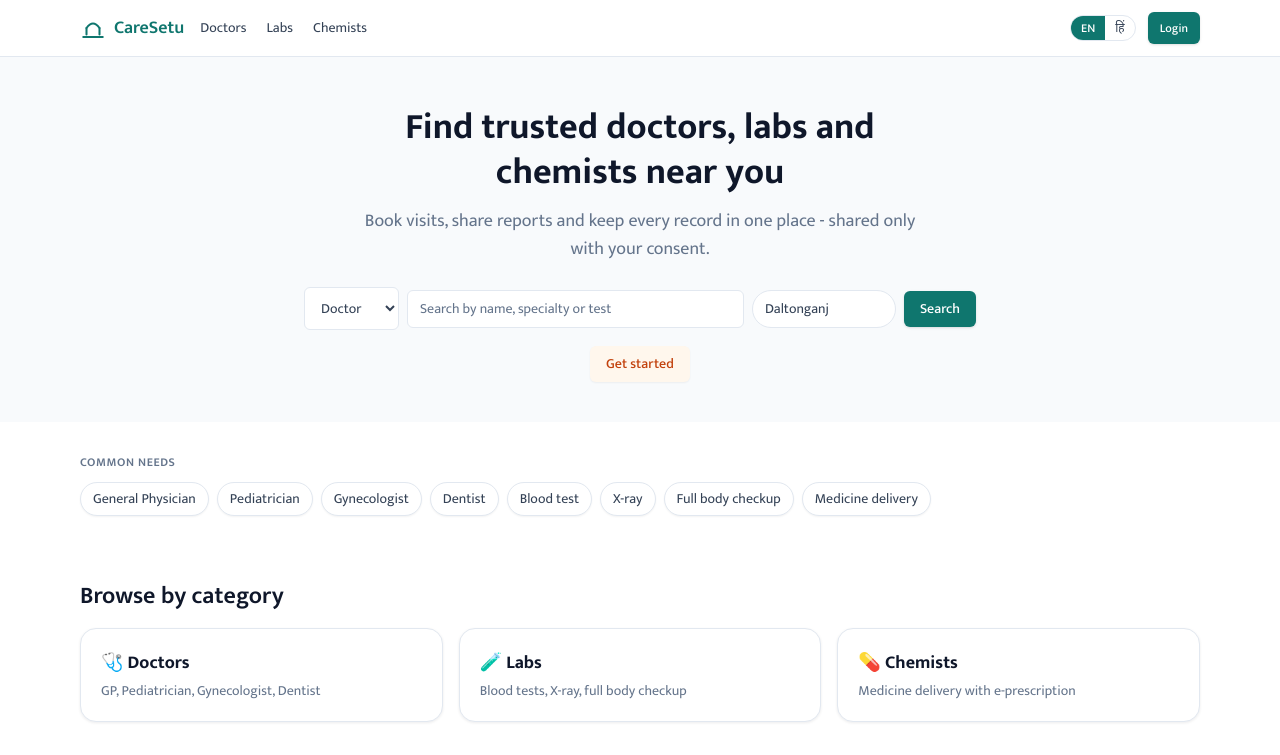
Scenario: EN/Hindi toggle parity across sections (REQ-006) › re-renders public copy in every section and tracks html lang
Click the button "हिं" at (1120, 28), box 1105,16 -> 1135,40
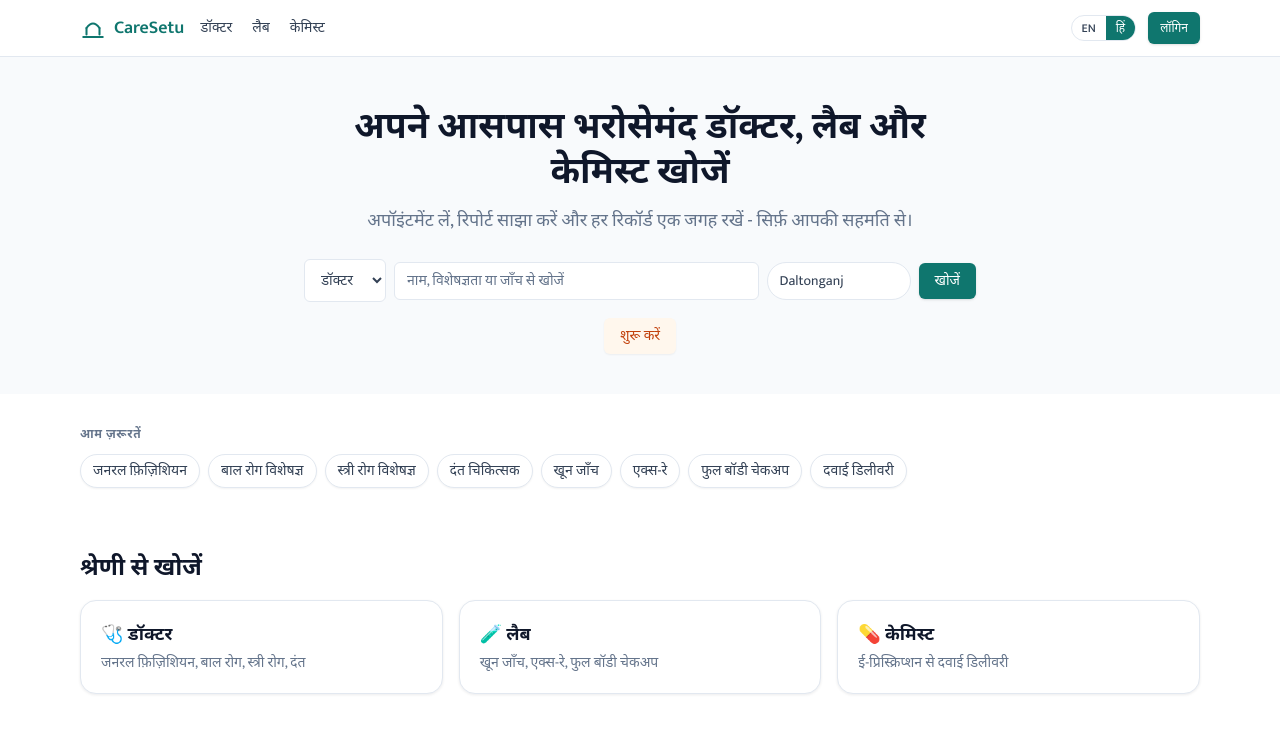
Check: the heading "आम ज़रूरतें" is shown, box 80,424 -> 141,444
Check: the heading "श्रेणी से खोजें" is shown, box 80,548 -> 202,588
Click the button "EN" at (1089, 28), box 1072,16 -> 1106,40
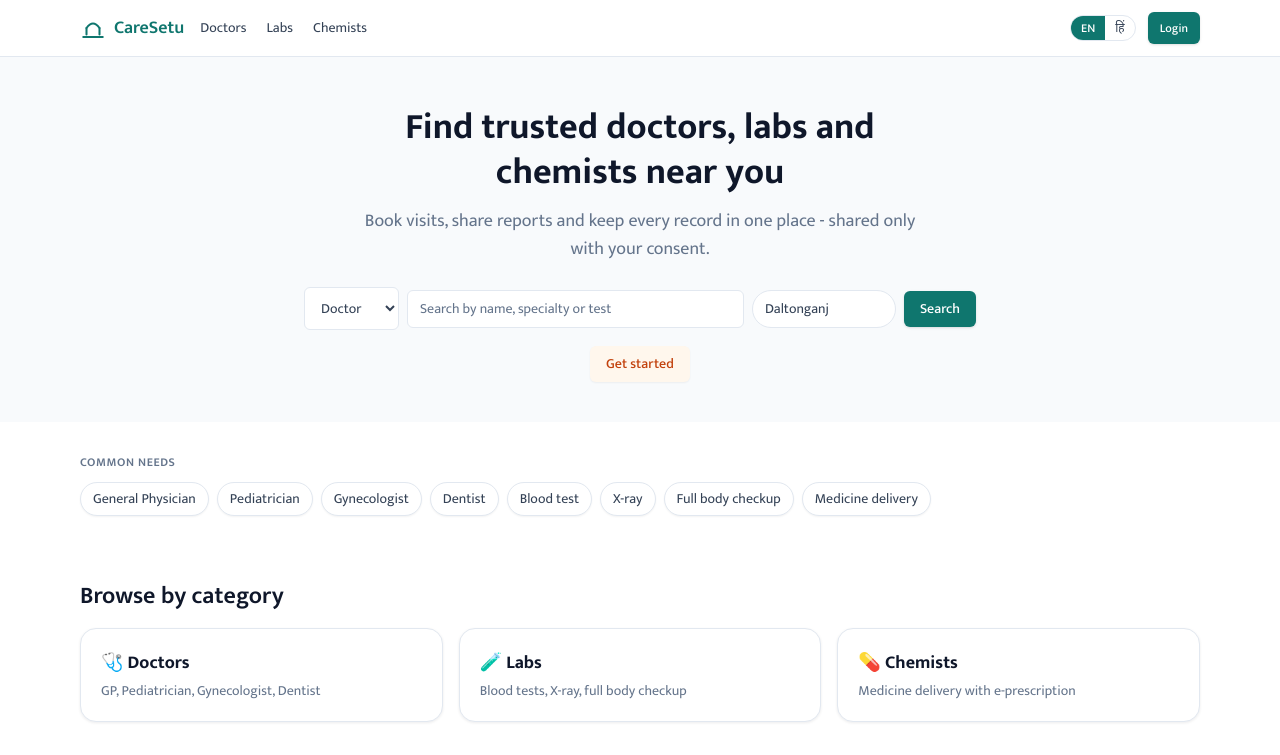
Check: the heading "Find trusted doctors, labs and chemists near you" is shown, box 405,97 -> 875,202
